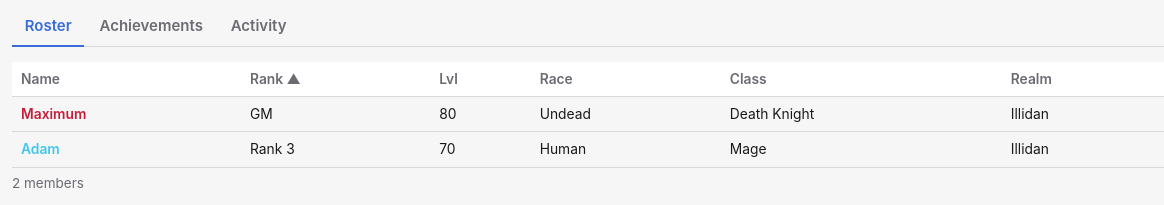
Test case: GuildDetail — lazy sub-tabs › fetches achievements only after the Achievements tab is selected
The image size is (1164, 205).
Expected: the text "Maximum" is shown, x1=12 y1=97 x2=241 y2=132
Click the tab "Achievements": (151, 27) x1=87 y1=8 x2=216 y2=47
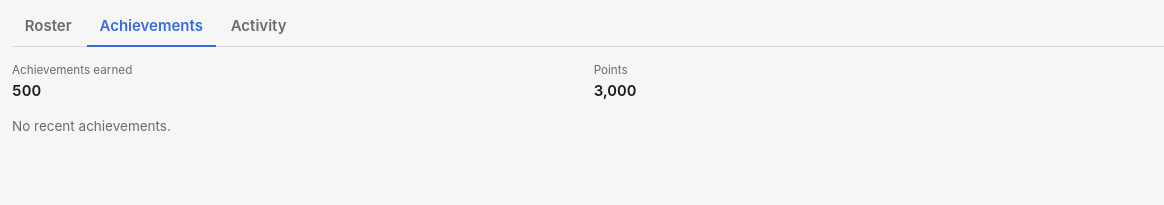
Expected: the text "3,000" is shown, x1=594 y1=80 x2=636 y2=100
